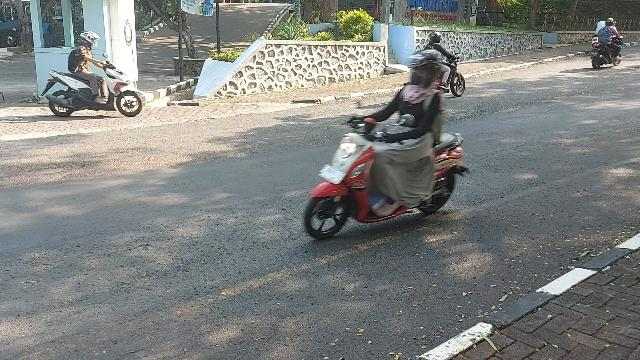helm: (409, 51, 441, 85), (82, 32, 103, 48)
motor: (306, 98, 471, 241), (43, 54, 144, 118)
